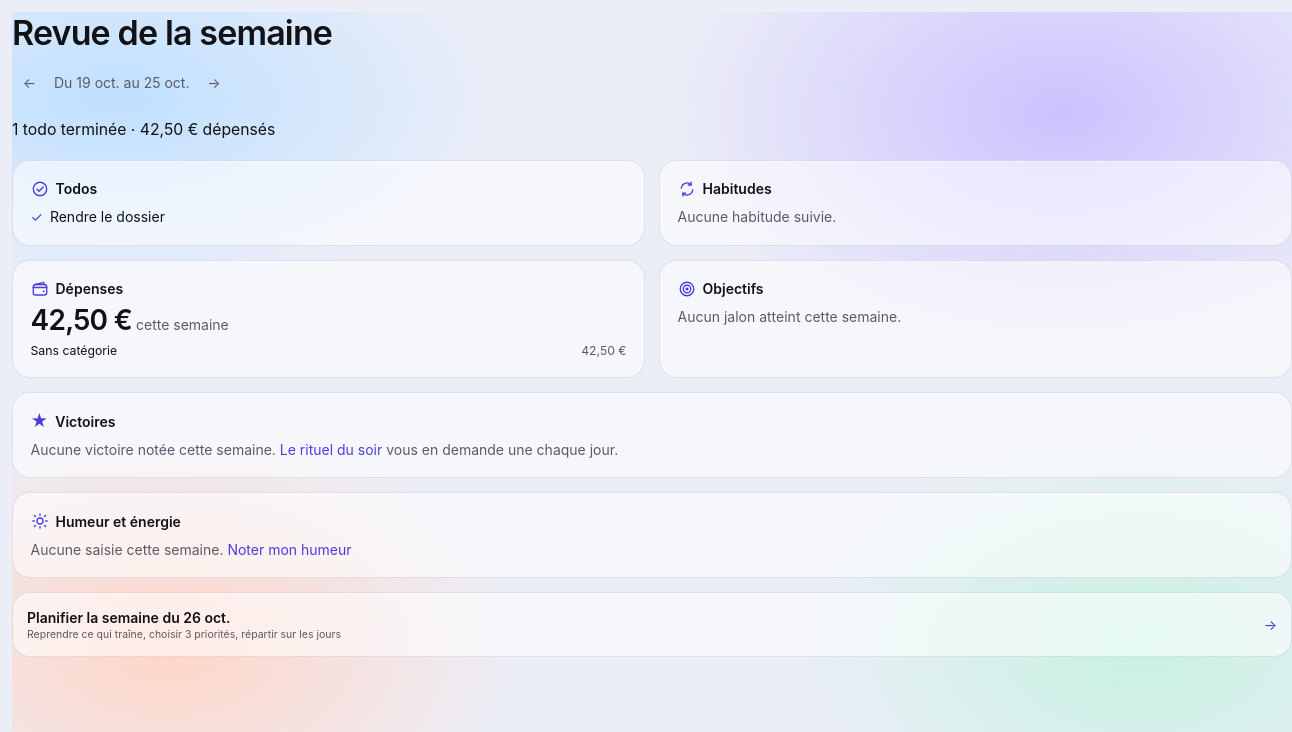
it: ReviewPage › navigue vers la semaine précédente
This screenshot has width=1292, height=732.
Expected: the text "1 todo terminée · 42,50 € dépensés" is shown, [12, 120, 275, 138]
What coordinates should you click on to do the following:
click the button named "Semaine précédente"
I would click on:
 (30, 82)
Its box is [12, 65, 47, 100].
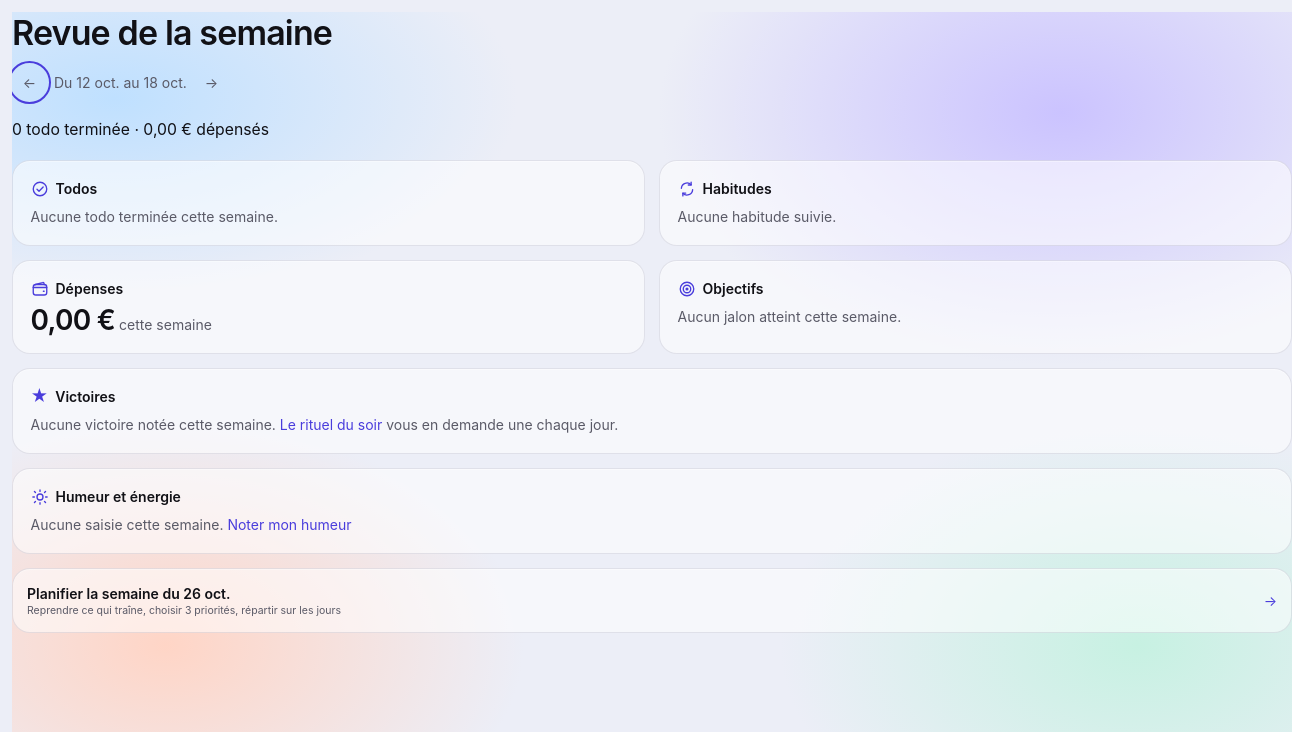
Now the text "0 todo terminée · 0,00 € dépensés" is shown, box [12, 120, 269, 138]
